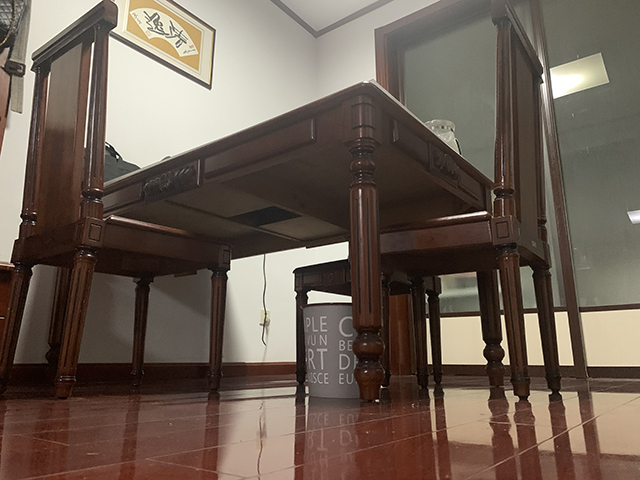stool: (1, 1, 233, 401), (376, 1, 564, 404), (292, 258, 443, 394)
table: (43, 79, 507, 404)
trashcan: (301, 300, 358, 399)
